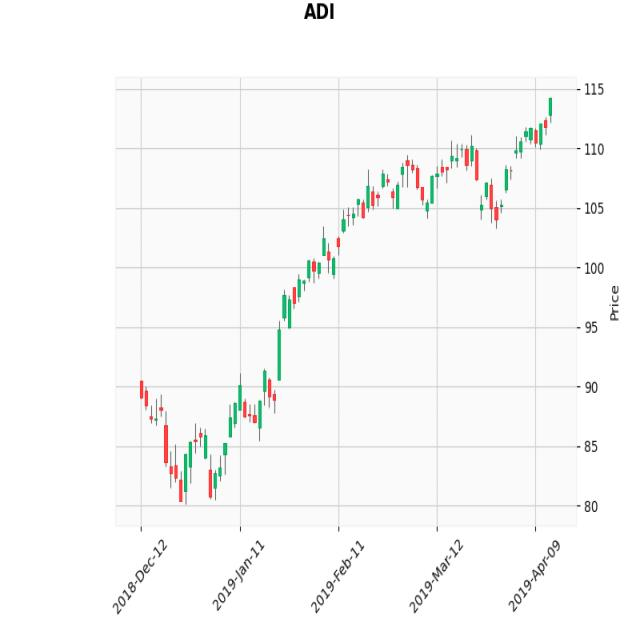Double-Bottom: (148, 384, 247, 506)
